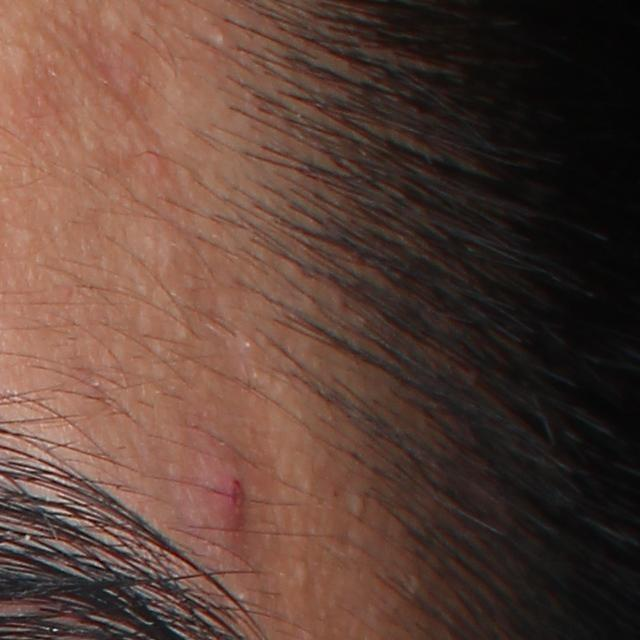comedo: (206, 19, 232, 49), (347, 487, 369, 517), (298, 558, 311, 591), (17, 229, 38, 245)
